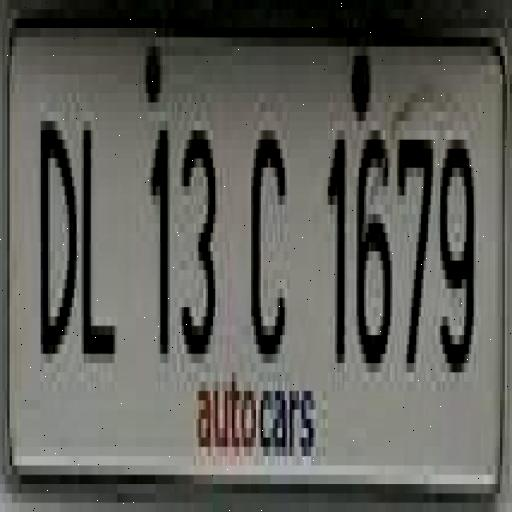number plate: (0, 10, 495, 484)
